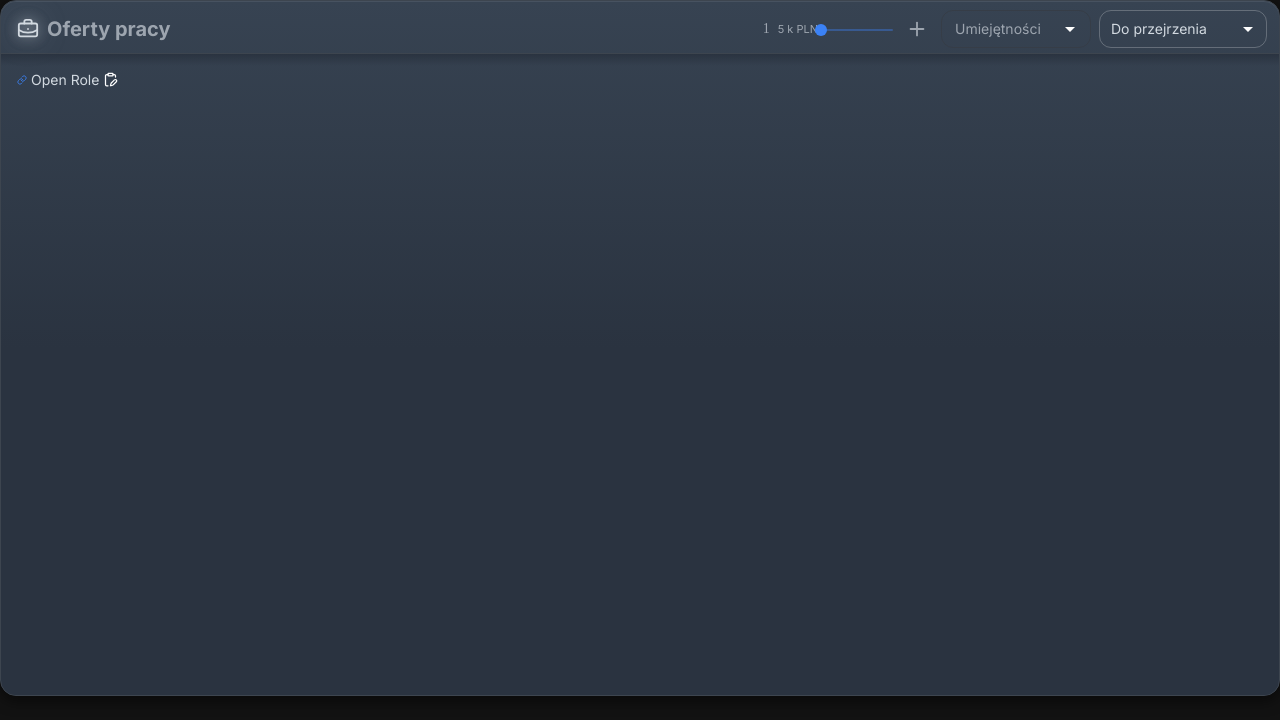
Scenario: JobAds › opens manual job ad dialog from card action
Click the button named "Dodaj ogłoszenie": (917, 29) [901,13,933,45]
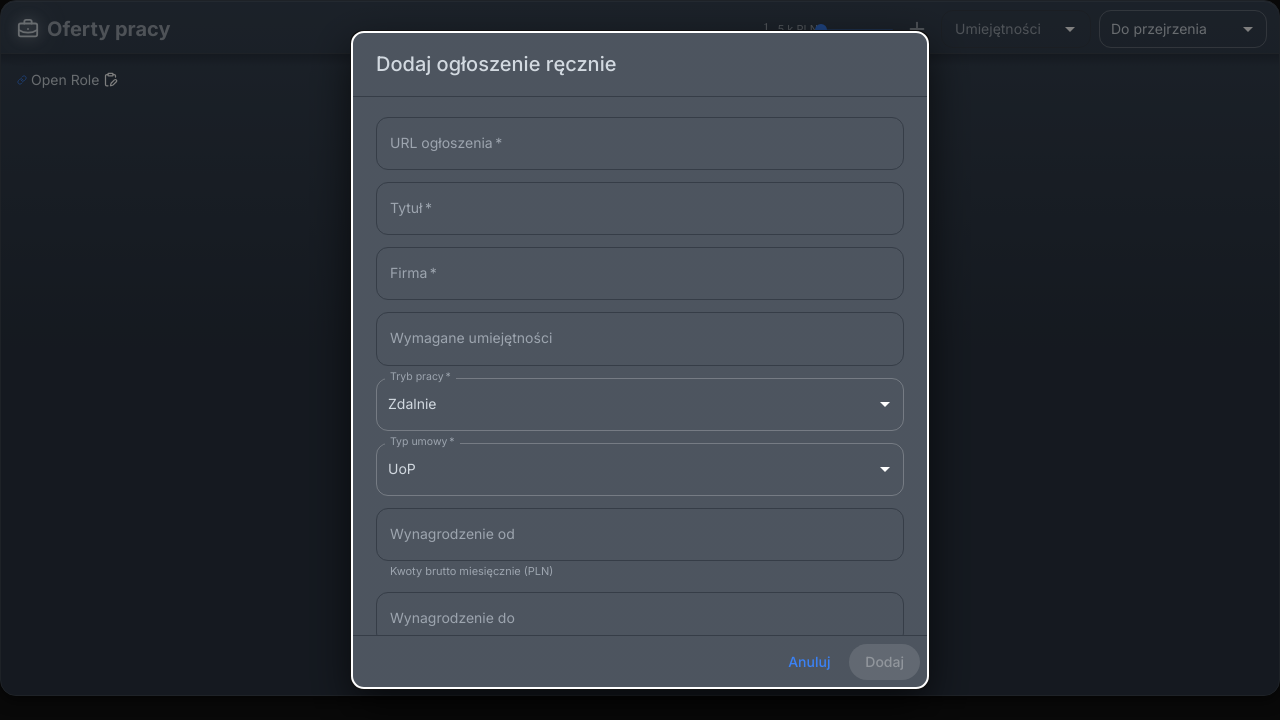
Result: the heading "Dodaj ogłoszenie ręcznie" is shown at [376,52,616,76]
